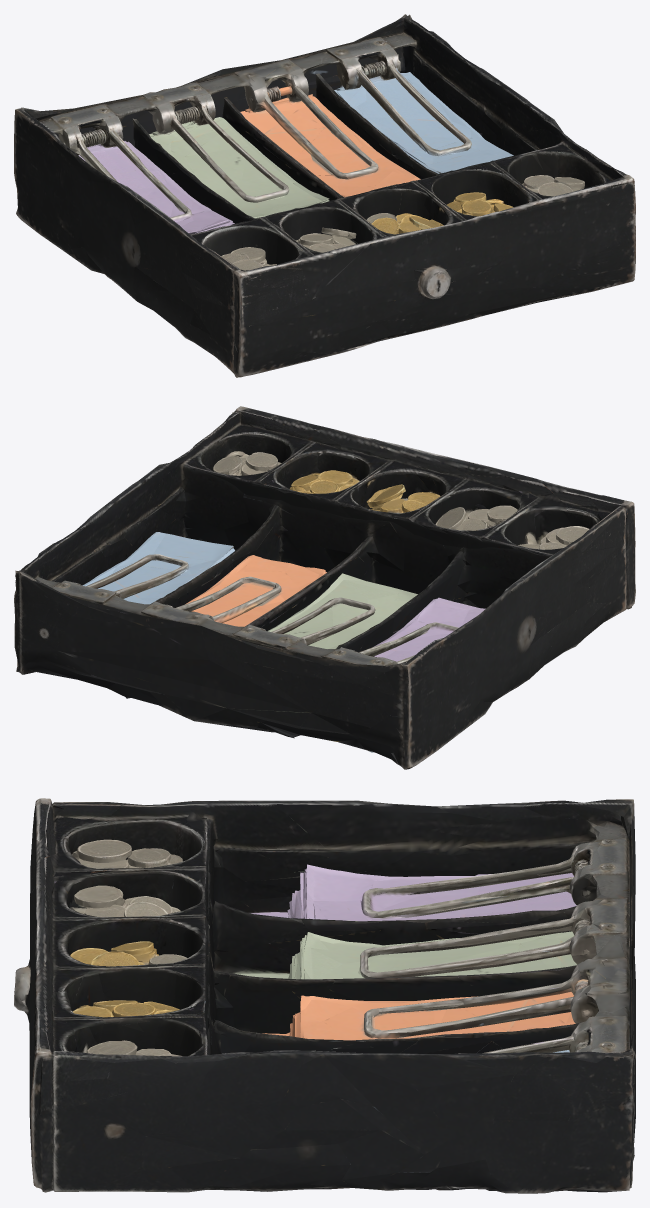
Rendered from remeshed-till-40000.glb.
3 renders of one model, top to bottom at view 1: azimuth 30°, elevation 25°; view 2: azimuth 150°, elevation 25°; view 3: azimuth 270°, elevation 25°, orthographic. The views are drawn at different scales.
Visible parts, largest first — view 1: output_unwrapped; view 2: output_unwrapped; view 3: output_unwrapped.
Boxes of the visible parts, x1,y1,x2,y2 form: output_unwrapped: [14, 14, 635, 377]; output_unwrapped: [14, 406, 635, 769]; output_unwrapped: [14, 798, 635, 1193].
Bounding box in the file's own units: 1.87 × 0.4827 × 1.9.
1 material, 1 textured.
